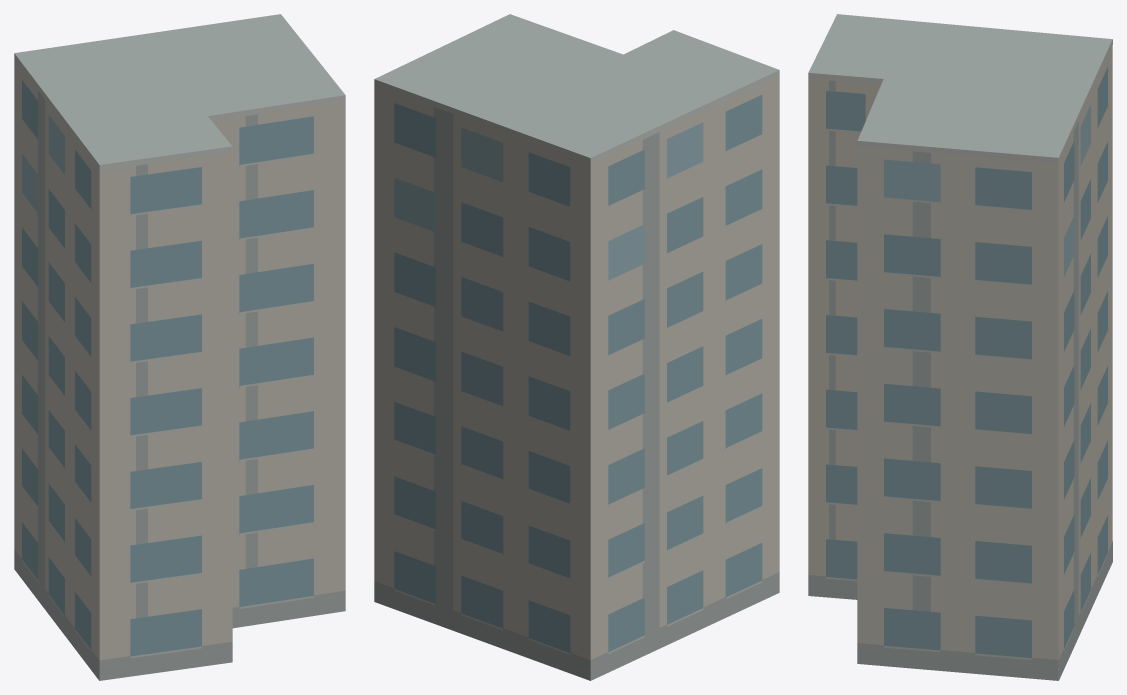
File: survey-upis-32793615.glb
3 views of the same model, side by side, from view 1: azimuth 30°, elevation 25°; view 2: azimuth 150°, elevation 25°; view 3: azimuth 270°, elevation 25° (orthographic).
Parts seen in each view (by area): view 1: survey-upis-32793615.tmp; view 2: survey-upis-32793615.tmp; view 3: survey-upis-32793615.tmp.
Part boxes in pixels (x1,y1,x2,y2): survey-upis-32793615.tmp: [14, 14, 345, 680]; survey-upis-32793615.tmp: [374, 14, 779, 680]; survey-upis-32793615.tmp: [808, 14, 1112, 680].
Size of the model in its own units: 12.6 by 21.35 by 11.27.
